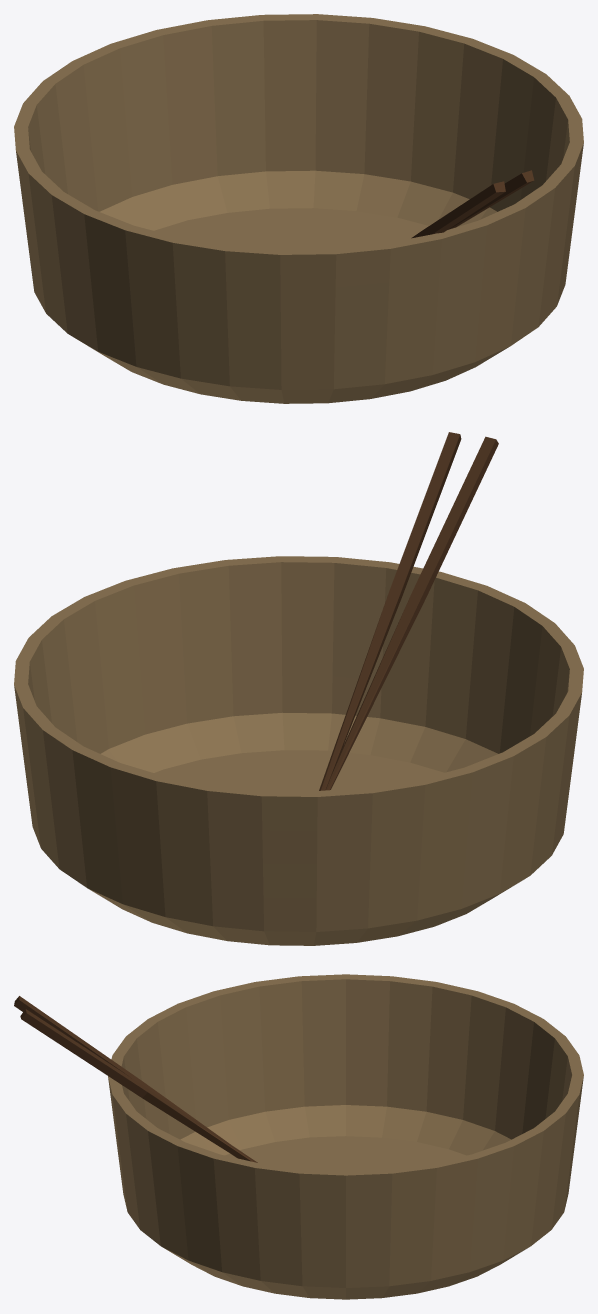
The model's file is Bowl.fbx.
The picture shows the model from 3 angles, top to bottom: view 1: azimuth 30°, elevation 25°; view 2: azimuth 150°, elevation 25°; view 3: azimuth 270°, elevation 25°; orthographic projection. The views are drawn at different scales.
Visible parts, largest first — view 1: Cube.017; view 2: Cube.017; view 3: Cube.017.
Boxes of the visible parts, x1,y1,x2,y2 form: Cube.017: [14, 14, 583, 403]; Cube.017: [14, 432, 583, 945]; Cube.017: [14, 974, 583, 1299].
Bounding box in the file's own units: 17.28 × 9.01 × 20.69.
